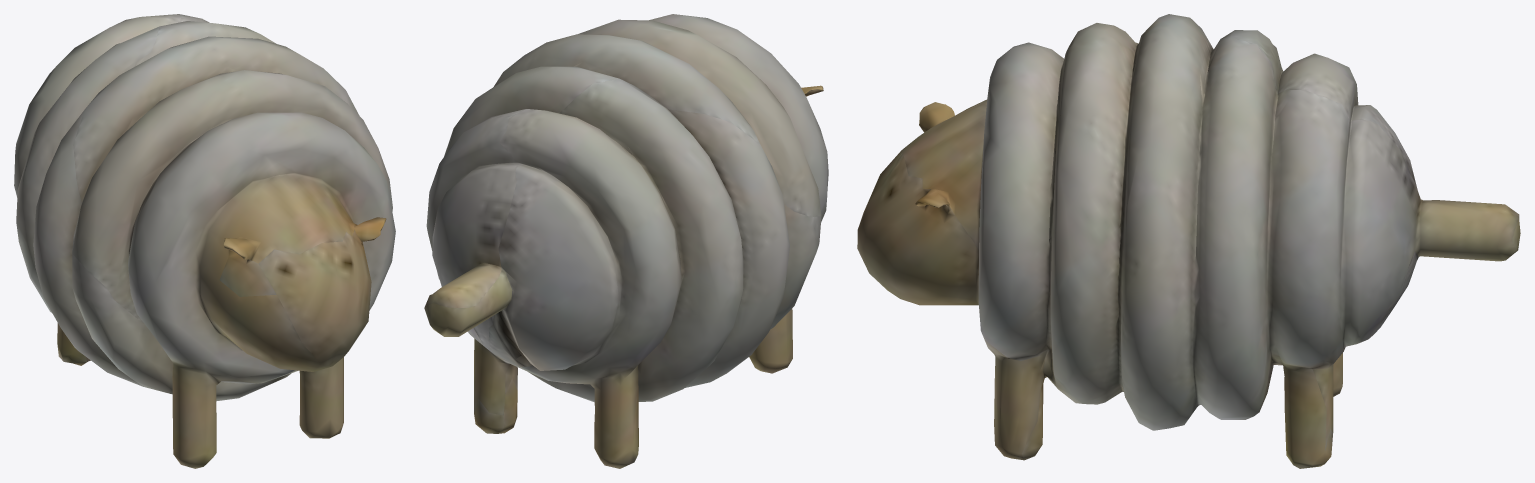
Rendered from gso_lacing_sheep.glb.
3 views of the same model, side by side, from view 1: azimuth 30°, elevation 25°; view 2: azimuth 150°, elevation 25°; view 3: azimuth 270°, elevation 25° (orthographic). The views are drawn at different scales.
Parts seen in each view (by area): view 1: z-up-to-y-up; view 2: z-up-to-y-up; view 3: z-up-to-y-up.
Part boxes in pixels (bbox=[...]): z-up-to-y-up: bbox=[14, 14, 395, 468]; z-up-to-y-up: bbox=[424, 14, 828, 468]; z-up-to-y-up: bbox=[857, 14, 1520, 468].
Bounding box in the file's own units: 0.0847 × 0.089 × 0.1354.
Materials: 1 (1 with a texture image).
